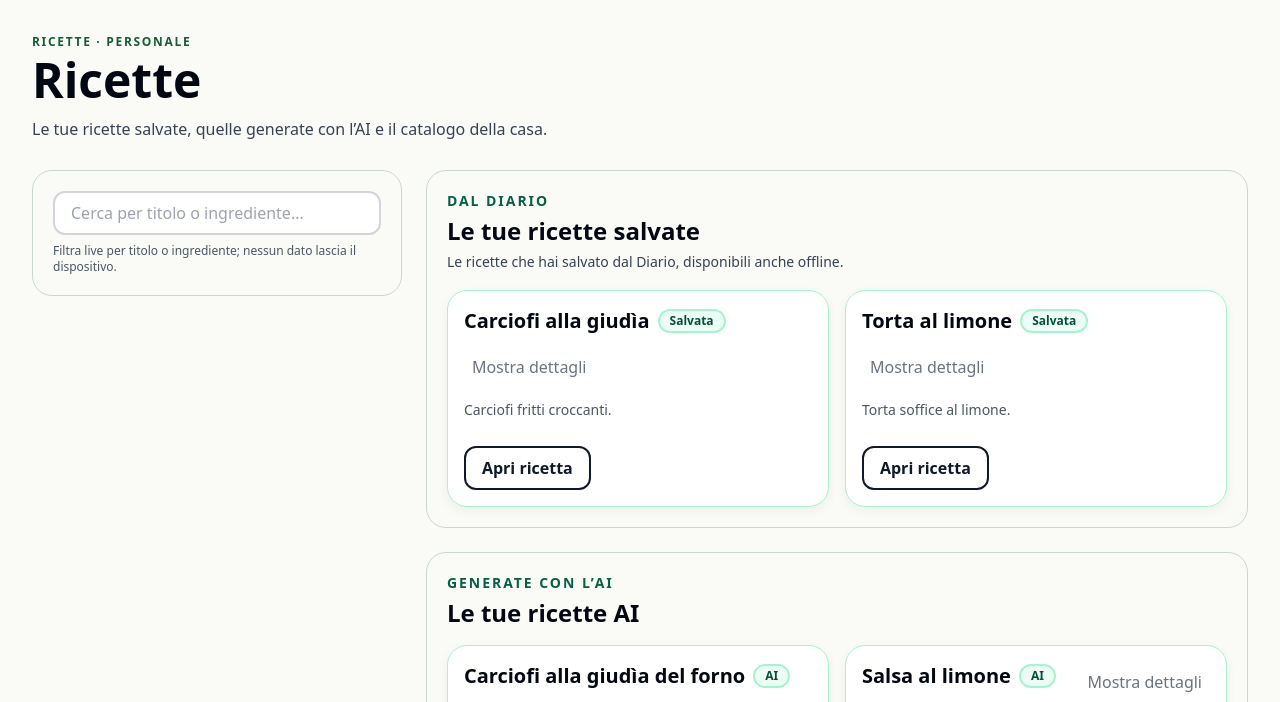
Test: RecipesPage › nessuna corrispondenza in nessun gruppo mostra la CTA e nasconde tutte le card
This screenshot has width=1280, height=702.
Expected: the heading "Torta al limone" is shown, [862,307,1012,335]
Type "zzzzzz" into the search field named "Cerca ricette" at (217,213), box [53,191,381,235]
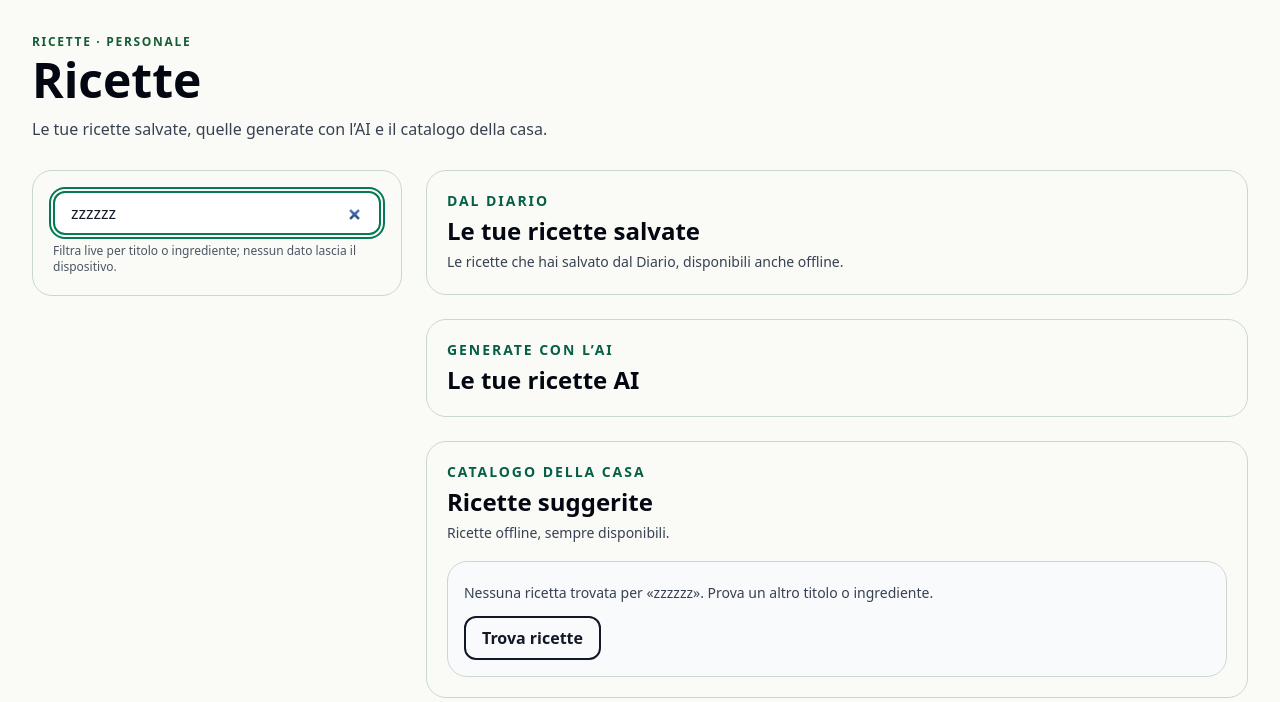
Expected: the text "Nessuna ricetta trovata" is shown, [464,582,933,602]
Expected: the heading "Torta al limone" is gone
Expected: the heading "Salsa al limone" is gone
